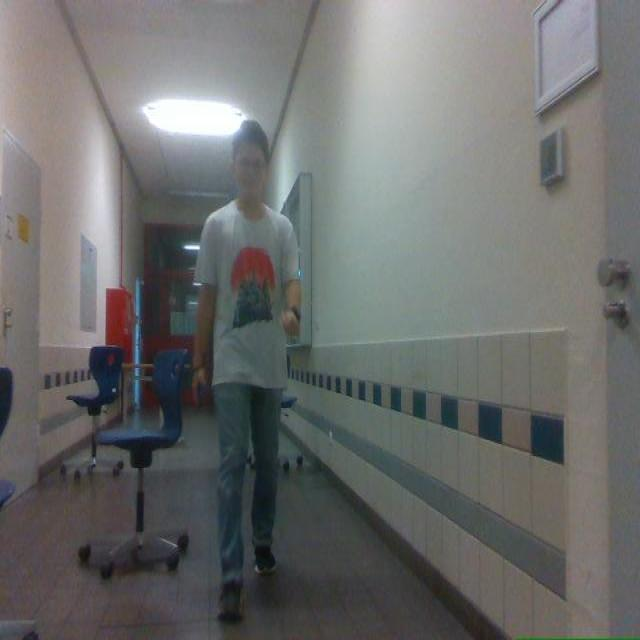humans: (192, 123, 301, 620)
objects: (97, 349, 191, 577), (67, 345, 123, 479)
